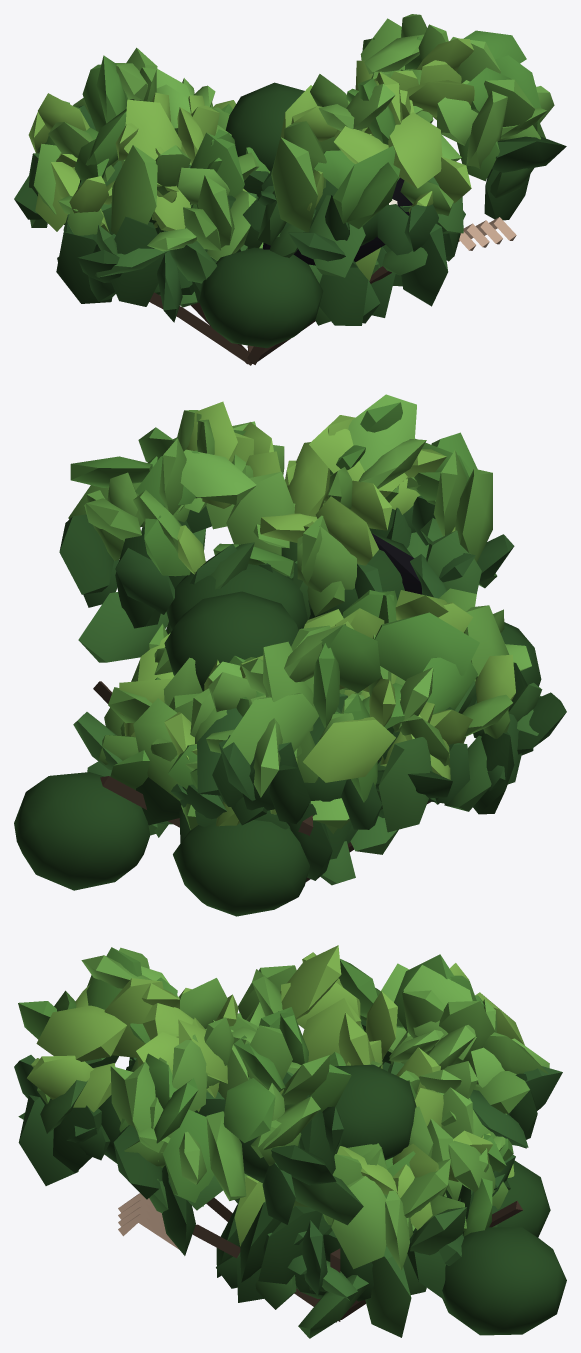
Rendered from bush_eyes.glb.
3 views of the same model, one above another, from view 1: azimuth 30°, elevation 25°; view 2: azimuth 150°, elevation 25°; view 3: azimuth 270°, elevation 25° (orthographic). The views are drawn at different scales.
Parts seen in each view (by area): view 1: bush_eyes; view 2: bush_eyes; view 3: bush_eyes.
Part boxes in pixels (x1,y1,x2,y2): bush_eyes: (14, 14, 566, 365); bush_eyes: (14, 394, 566, 916); bush_eyes: (14, 945, 566, 1338).
Size of the model in its own units: 1.69 by 1.26 by 1.68.
